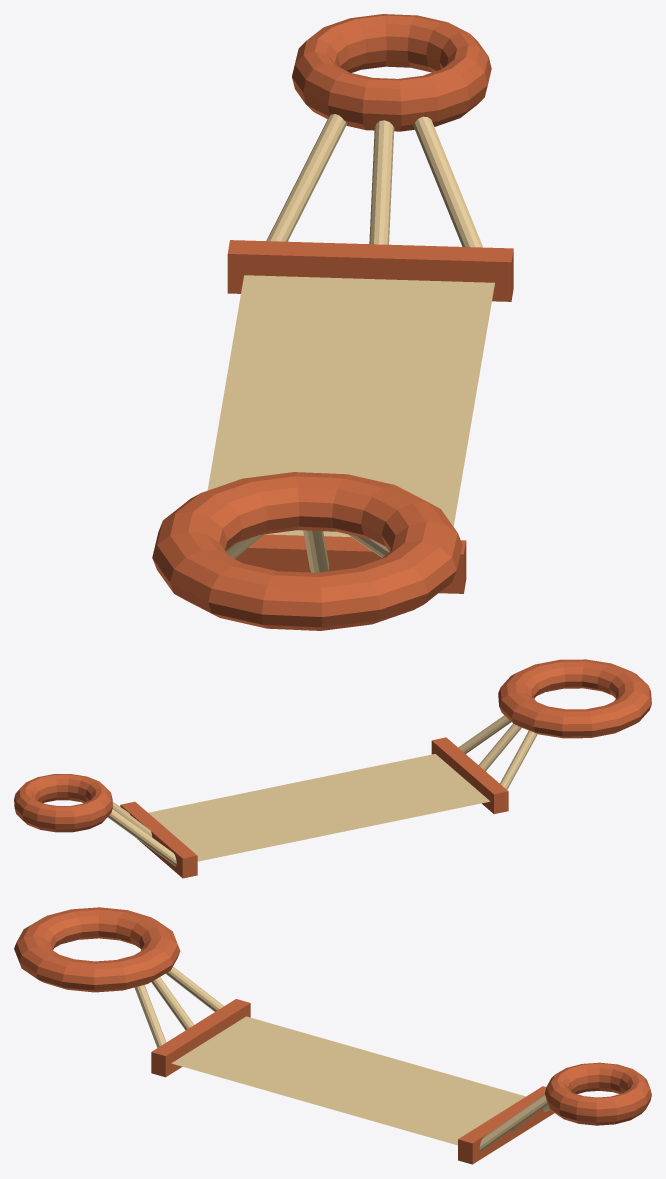
Rendered from Beach_Hammock.fbx.
The picture shows the model from 3 angles, top to bottom: view 1: azimuth 30°, elevation 25°; view 2: azimuth 150°, elevation 25°; view 3: azimuth 270°, elevation 25°; orthographic projection. The views are drawn at different scales.
Parts seen in each view (by area): view 1: Hammock; view 2: Hammock; view 3: Hammock.
Part boxes in pixels (x1,y1,x2,y2): Hammock: (152,14,513,630); Hammock: (14,659,651,878); Hammock: (14,907,651,1164).
Bounding box in the file's own units: 819 × 157 × 1092.
